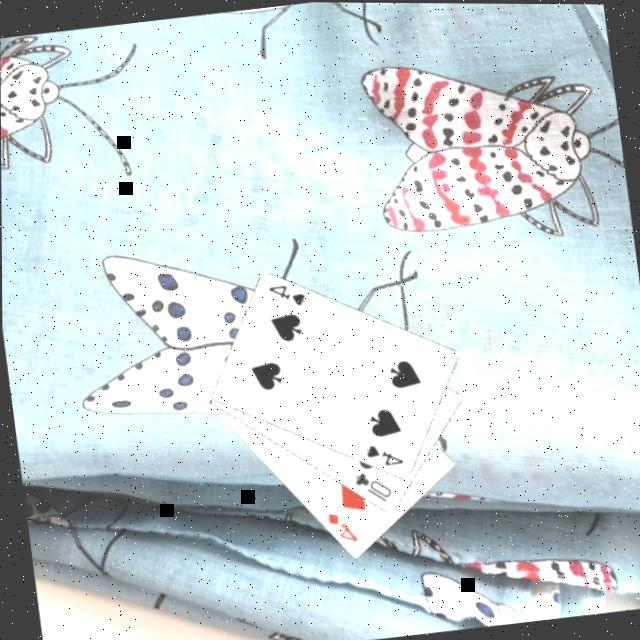10C: (349, 463, 395, 506)
4D: (323, 503, 361, 545)
4S: (264, 276, 309, 310), (362, 435, 407, 468)
